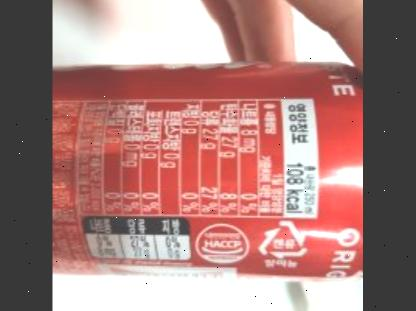Can: (52, 63, 362, 280)
